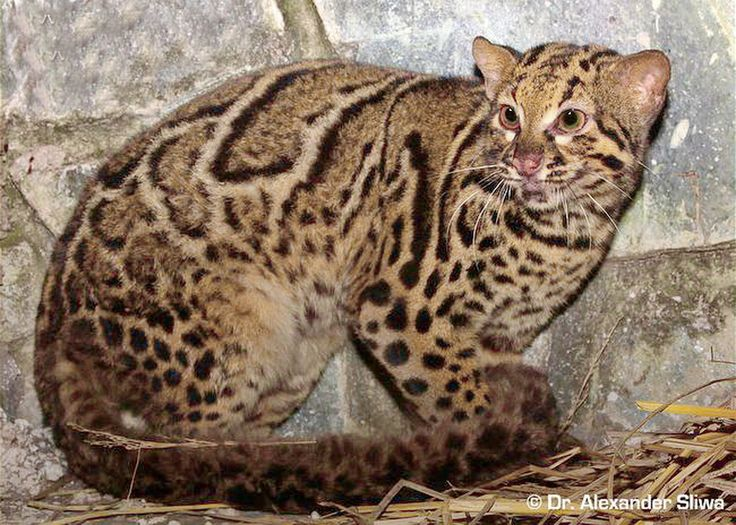cat: (34, 29, 689, 511)
